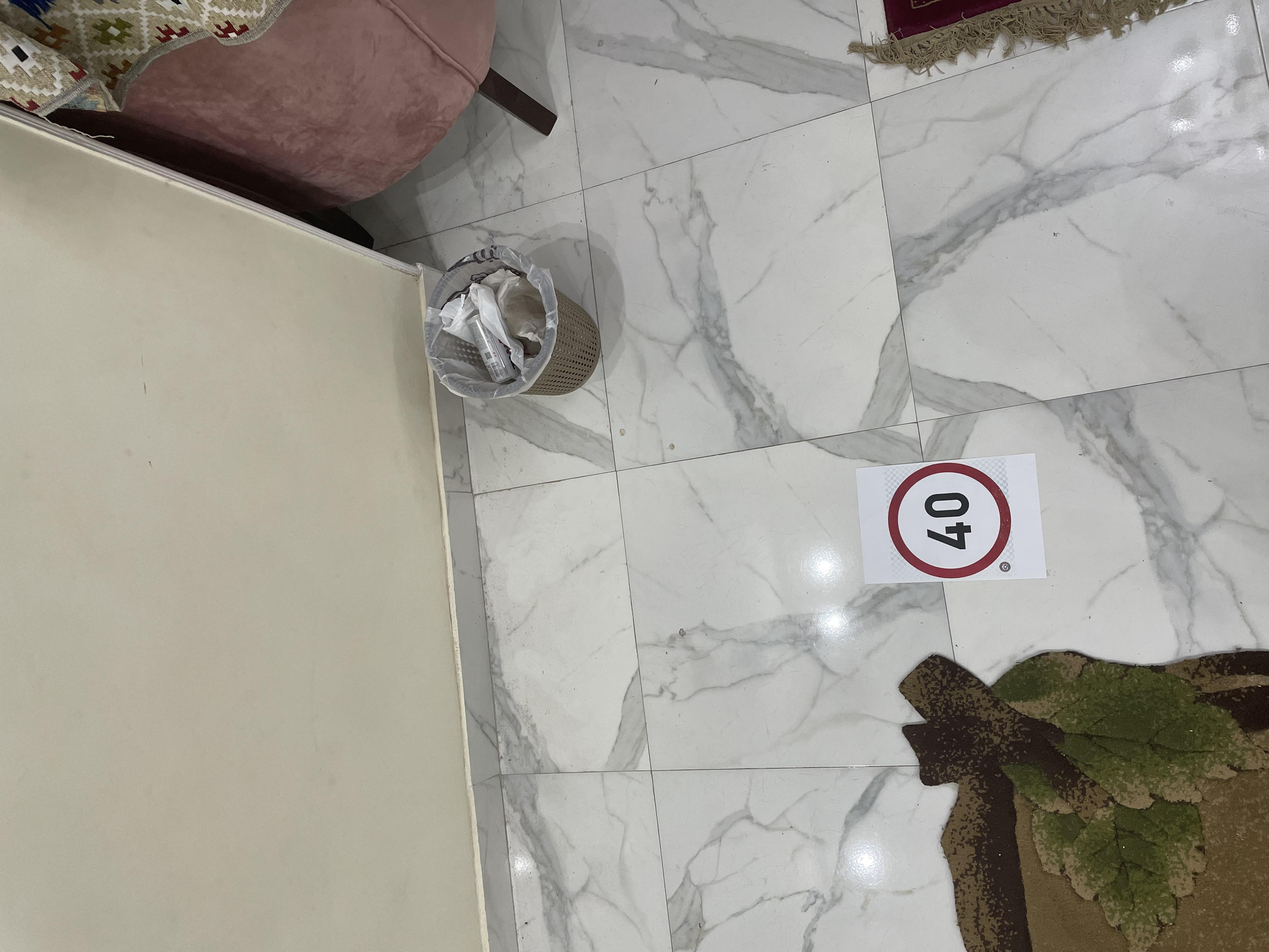40-Speed: (496, 662, 664, 761)
